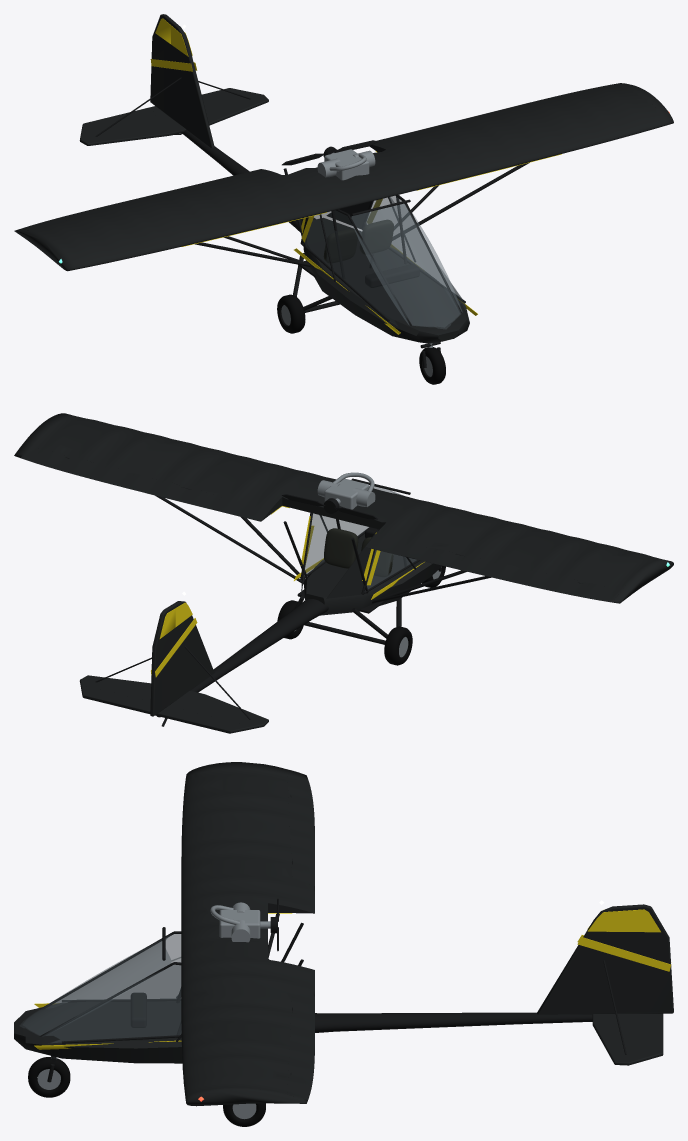
The model's file is nightjar_rw12_lod1.glb.
The picture shows the model from 3 angles, top to bottom: view 1: azimuth 30°, elevation 25°; view 2: azimuth 150°, elevation 25°; view 3: azimuth 270°, elevation 25°; orthographic projection. The views are drawn at different scales.
Parts seen in each view (by area): view 1: wing_R, wing_L, fuselage, canopy_glazing, vertical_stabilizer, horizontal_stabilizer, struts, rudder, engine_mount, elevator, aileron_R, aileron_L (+6 smaller); view 2: wing_R, wing_L, fuselage, aileron_L, aileron_R, vertical_stabilizer, horizontal_stabilizer, rudder, canopy_glazing, struts, elevator, engine_mount (+6 smaller); view 3: wing_L, wing_R, fuselage, canopy_glazing, vertical_stabilizer, rudder, aileron_R, aileron_L, horizontal_stabilizer, engine_mount, wingtip_L, wheel_nose (+4 smaller).
Part boxes in pixels (x1,y1,x2,y2): wing_R: [24, 167, 373, 269]; wing_L: [356, 86, 666, 200]; fuselage: [158, 108, 477, 343]; canopy_glazing: [303, 196, 465, 328]; vertical_stabilizer: [95, 21, 250, 147]; horizontal_stabilizer: [79, 92, 268, 145]; struts: [195, 162, 529, 279]; rudder: [150, 14, 174, 116]; engine_mount: [317, 149, 375, 180]; elevator: [81, 88, 250, 133]; aileron_R: [21, 181, 220, 230]; aileron_L: [415, 84, 620, 133]; wing_R: [334, 488, 662, 590]; wing_L: [30, 415, 335, 521]; fuselage: [157, 478, 442, 726]; aileron_L: [20, 446, 220, 509]; aileron_R: [415, 547, 621, 602]; vertical_stabilizer: [95, 601, 250, 719]; horizontal_stabilizer: [79, 675, 268, 728]; rudder: [150, 604, 175, 715]; canopy_glazing: [304, 486, 416, 590]; struts: [155, 495, 491, 603]; elevator: [80, 685, 252, 733]; engine_mount: [317, 472, 375, 509]; wing_L: [181, 928, 314, 1099]; wing_R: [181, 767, 314, 940]; fuselage: [14, 927, 592, 1063]; canopy_glazing: [20, 934, 181, 1043]; vertical_stabilizer: [537, 905, 673, 1054]; rudder: [626, 904, 673, 1012]; aileron_R: [287, 773, 314, 885]; aileron_L: [287, 991, 314, 1099]; horizontal_stabilizer: [592, 1013, 663, 1065]; engine_mount: [210, 902, 270, 942]; wingtip_L: [185, 1088, 307, 1106]; wheel_nose: [28, 1057, 70, 1097].
Size of the model in its own units: 8.68 by 2.4 by 7.3.
